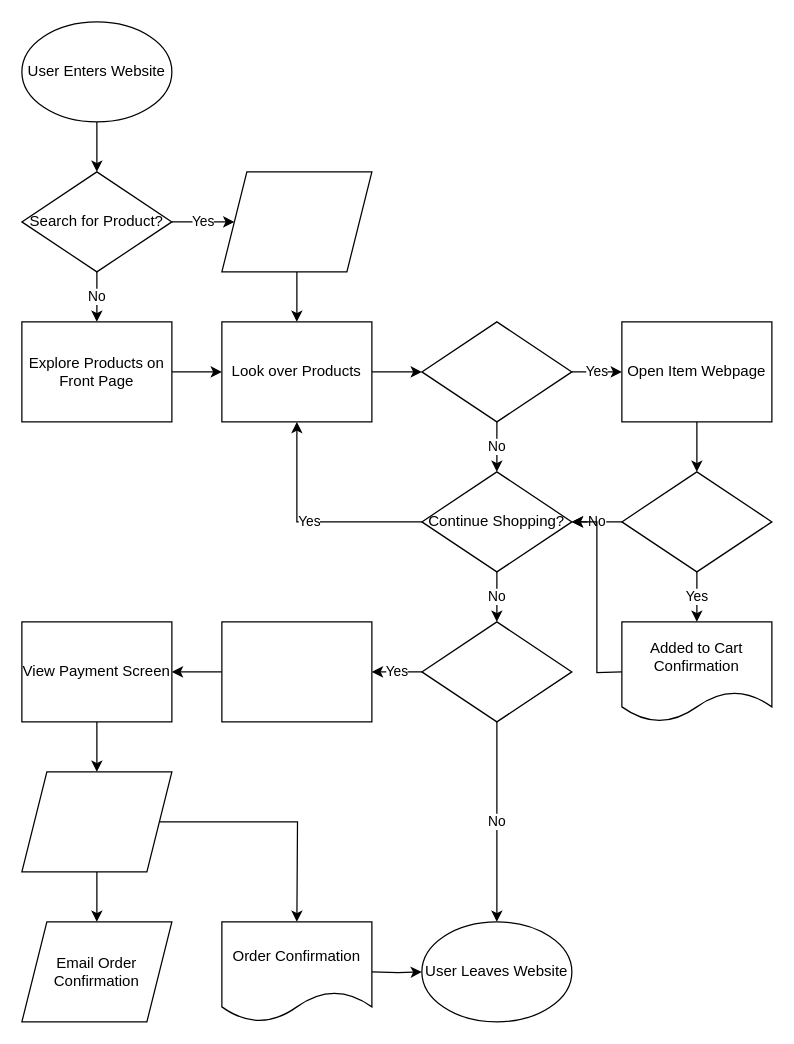
Some shapes in this 794 by 1044 pixel diagram are drawn without their labels. Here are the shapes that lost their labels. From the top down, the box of each, then its label:
(221, 171, 372, 272): Search Input
(421, 321, 572, 422): View Specific Item?
(621, 471, 772, 572): Add Item to Cart?
(221, 621, 372, 722): View Cart Screen
(421, 621, 572, 722): Checkout?
(21, 771, 172, 872): Input Payment Information
